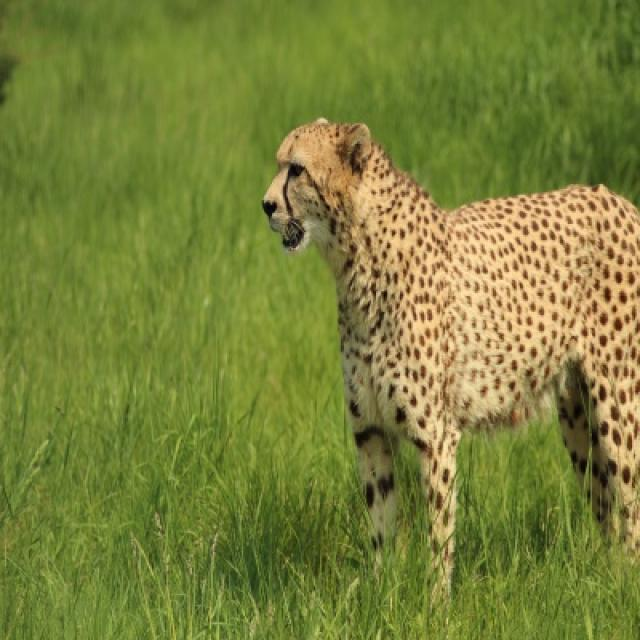Cheetah: (261, 118, 638, 603)
